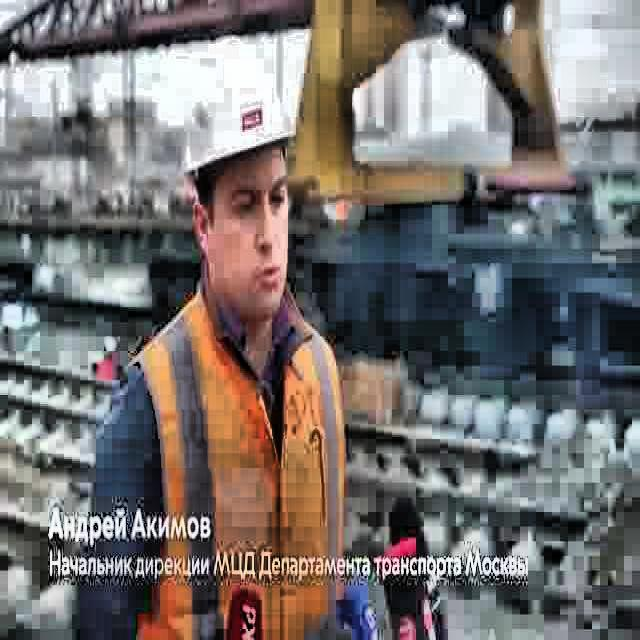safety_helmet: (183, 44, 296, 178)
safety_jacket: (128, 272, 350, 640)
